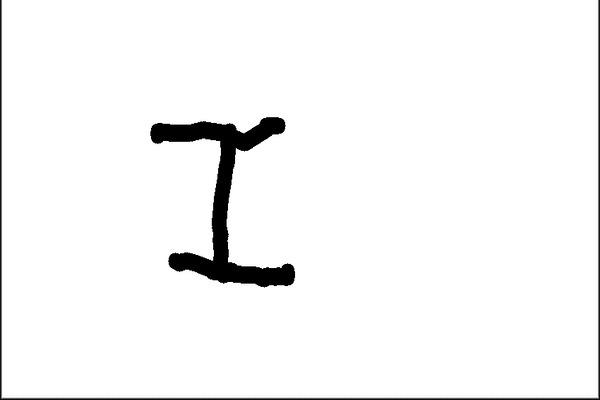i: (141, 104, 317, 299)
